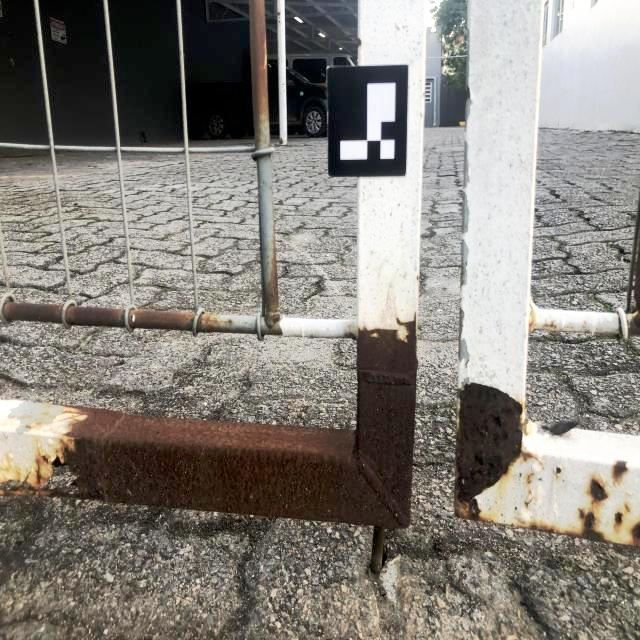Corrosion: (0, 310, 419, 574), (454, 382, 546, 524), (518, 475, 640, 550), (248, 0, 270, 150), (264, 207, 281, 327), (626, 230, 640, 336), (129, 309, 195, 330), (66, 305, 126, 328), (3, 302, 63, 323), (197, 313, 230, 332), (523, 466, 536, 511), (611, 459, 629, 483), (528, 304, 536, 333), (613, 510, 623, 529), (542, 319, 556, 327), (555, 465, 563, 477), (220, 317, 233, 324), (358, 37, 363, 50), (625, 502, 630, 513), (280, 137, 285, 145), (416, 272, 420, 280), (278, 11, 281, 16)
